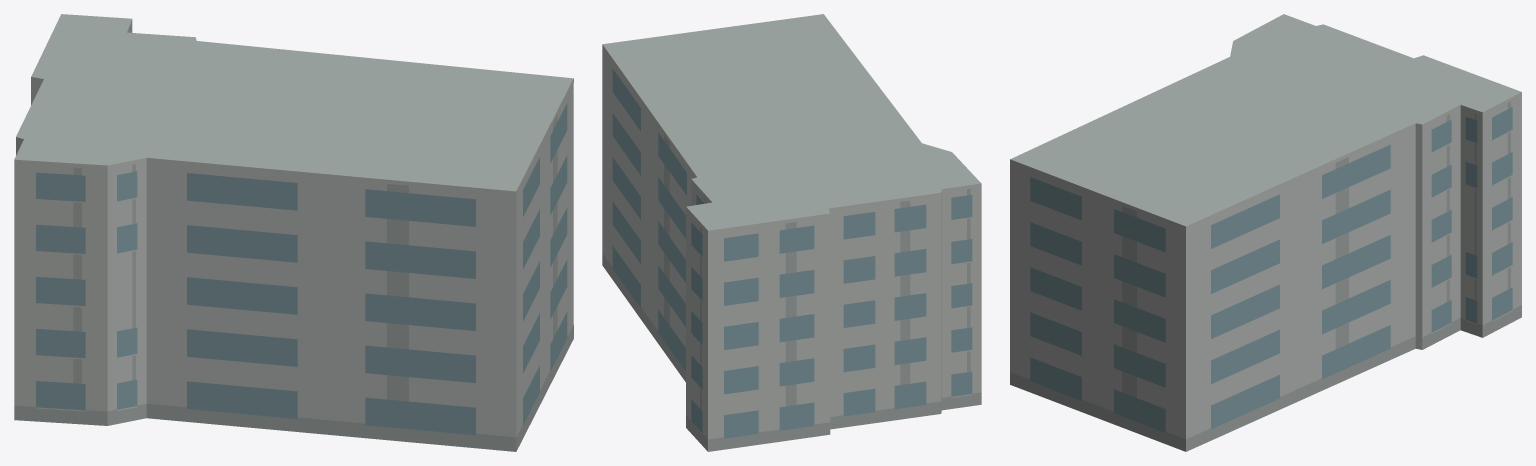
The model's file is survey-upis-32777081.glb.
The picture shows the model from 3 angles, left to right: view 1: azimuth 30°, elevation 25°; view 2: azimuth 150°, elevation 25°; view 3: azimuth 270°, elevation 25°; orthographic projection. The views are drawn at different scales.
Visible parts, largest first — view 1: survey-upis-32777081.tmp; view 2: survey-upis-32777081.tmp; view 3: survey-upis-32777081.tmp.
Boxes of the visible parts, x1,y1,x2,y2 form: survey-upis-32777081.tmp: (14,14,573,451); survey-upis-32777081.tmp: (602,14,981,451); survey-upis-32777081.tmp: (1010,14,1521,451).
Bounding box in the file's own units: 30.83 × 15.25 × 31.38.
